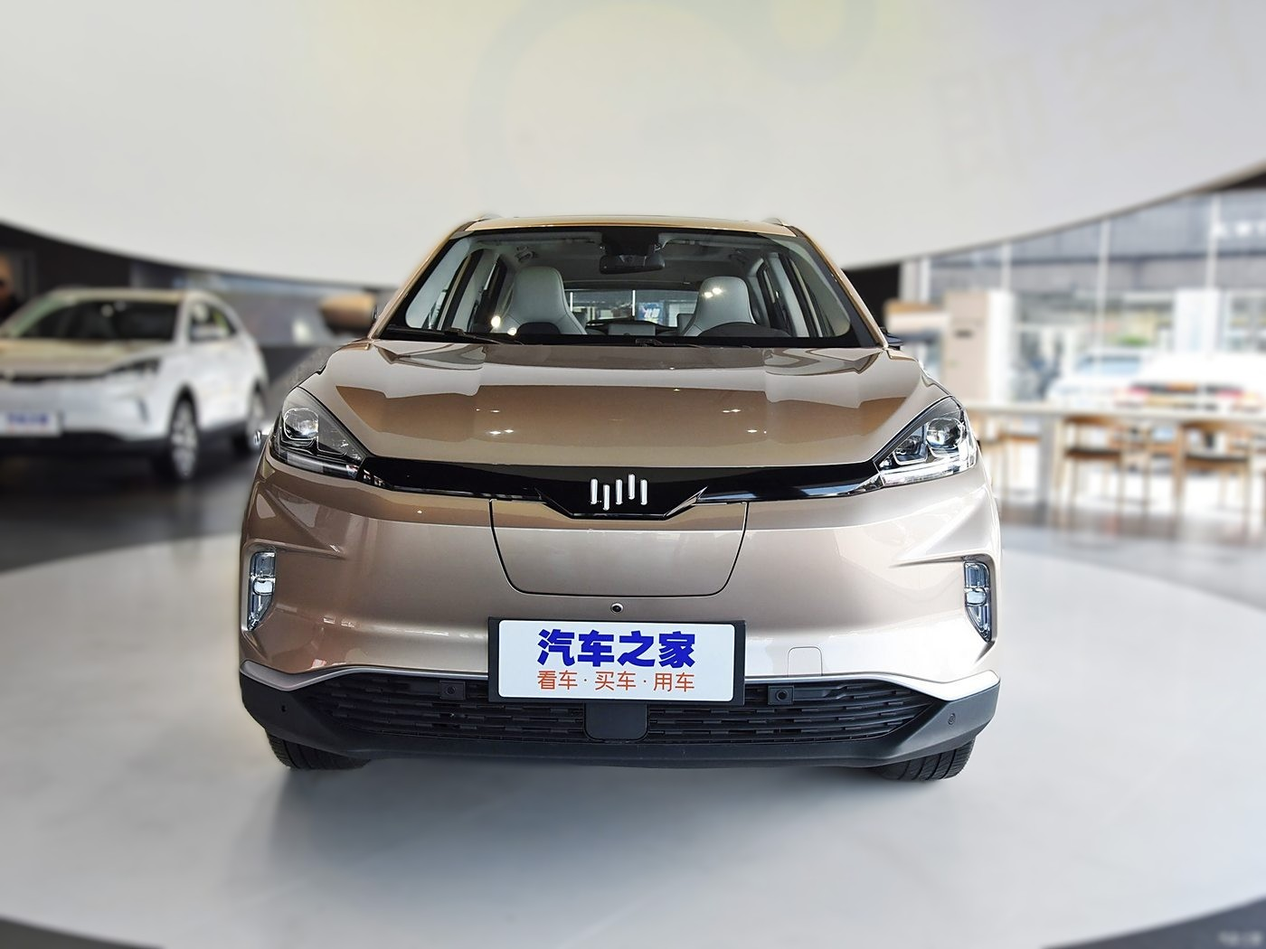WELTMEISTER: (591, 475, 647, 511)
